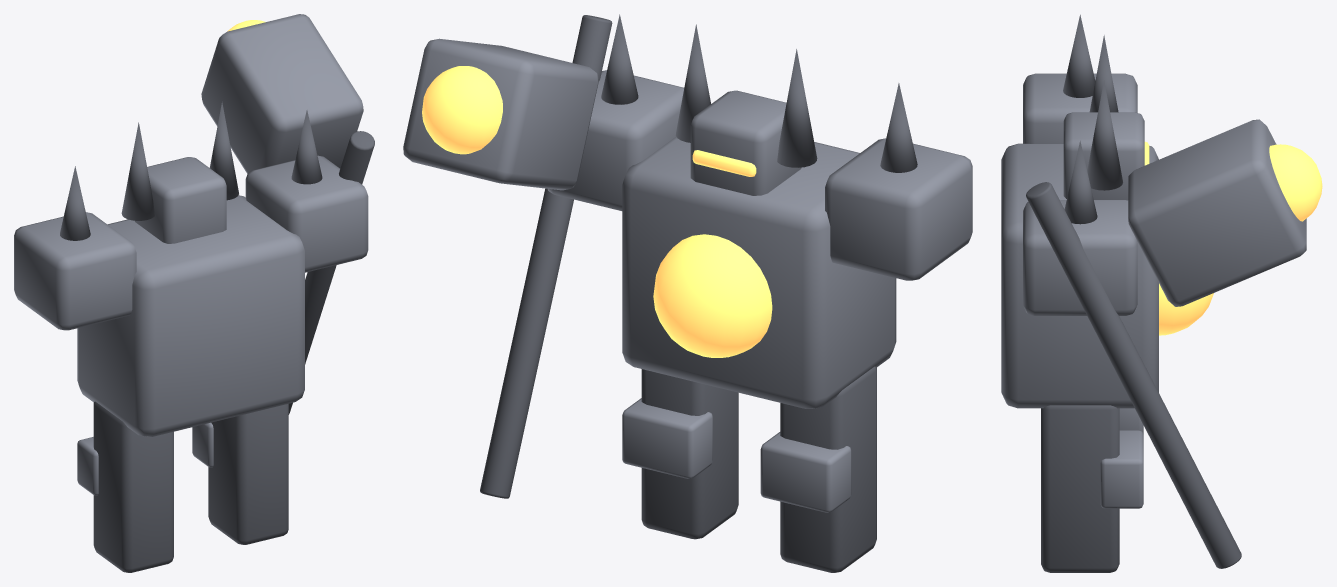
File: boss_kragasha.glb
3 renders of one model, left to right at view 1: azimuth 30°, elevation 25°; view 2: azimuth 150°, elevation 25°; view 3: azimuth 270°, elevation 25°, orthographic. The views are drawn at different scales.
Parts seen in each view (by area): view 1: StaticBody, Anim_Weapon; view 2: StaticBody, Anim_Weapon; view 3: StaticBody, Anim_Weapon.
Part boxes in pixels (x1,y1,x2,y2): StaticBody: [14, 101, 368, 572]; Anim_Weapon: [201, 14, 374, 414]; StaticBody: [547, 14, 972, 572]; Anim_Weapon: [403, 15, 612, 498]; StaticBody: [1001, 14, 1213, 572]; Anim_Weapon: [1026, 119, 1322, 568].
Bounding box in the file's own units: 3.82 × 4.39 × 2.69.
